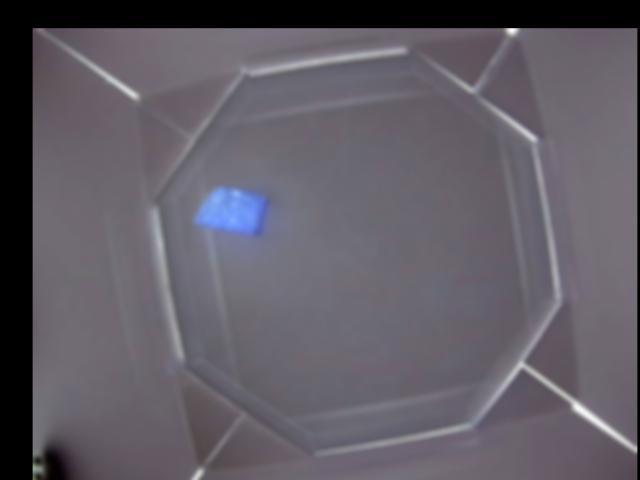Potato: (192, 182, 270, 237)
